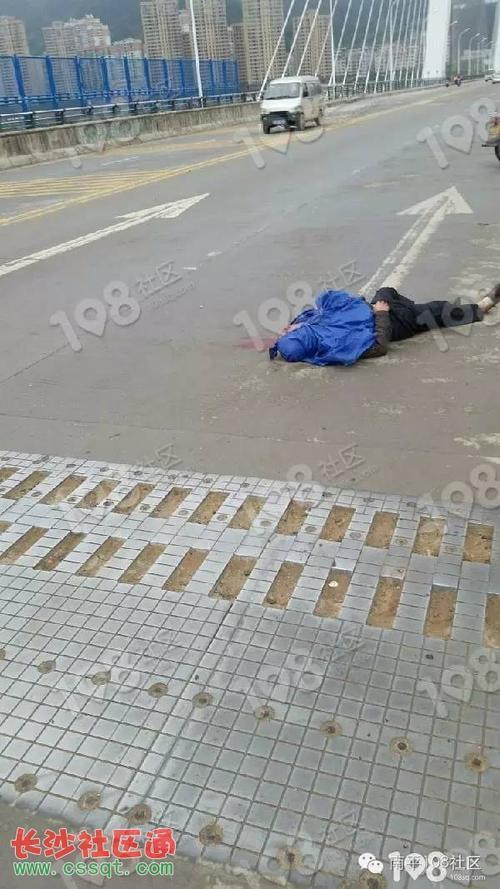Fall-Detected: (248, 263, 500, 373)
